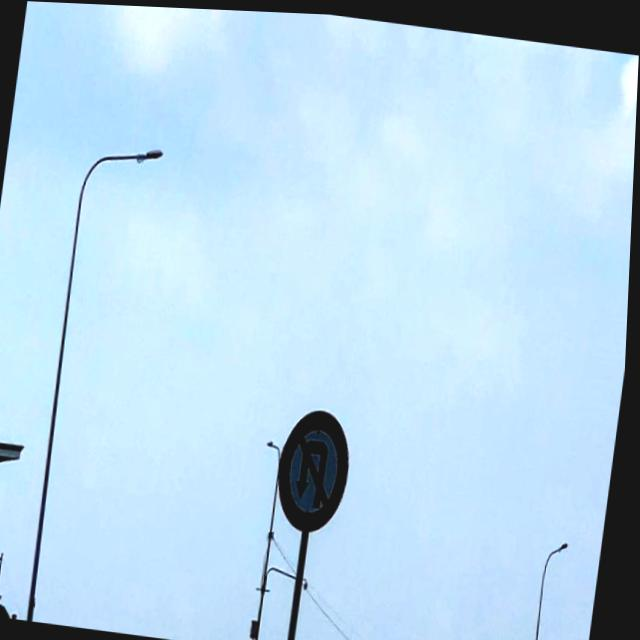Cam quay dau xe: (272, 394, 367, 541)
